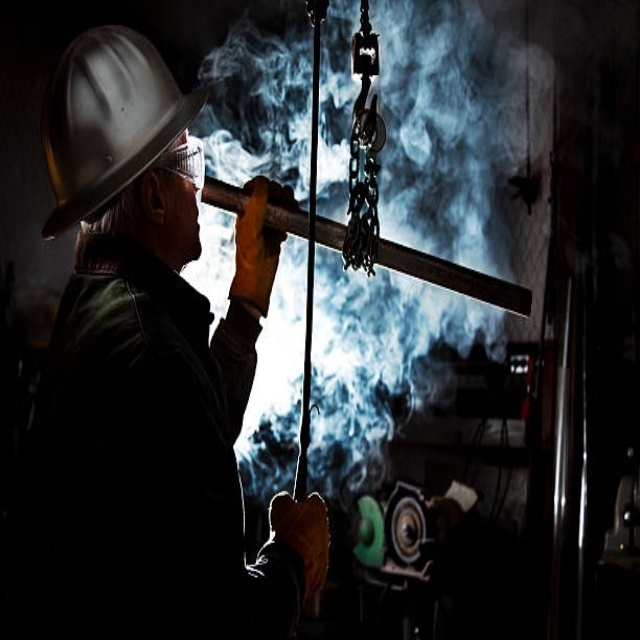Gafas: (166, 134, 204, 187)
Guantes: (229, 176, 289, 313), (268, 488, 330, 606)
